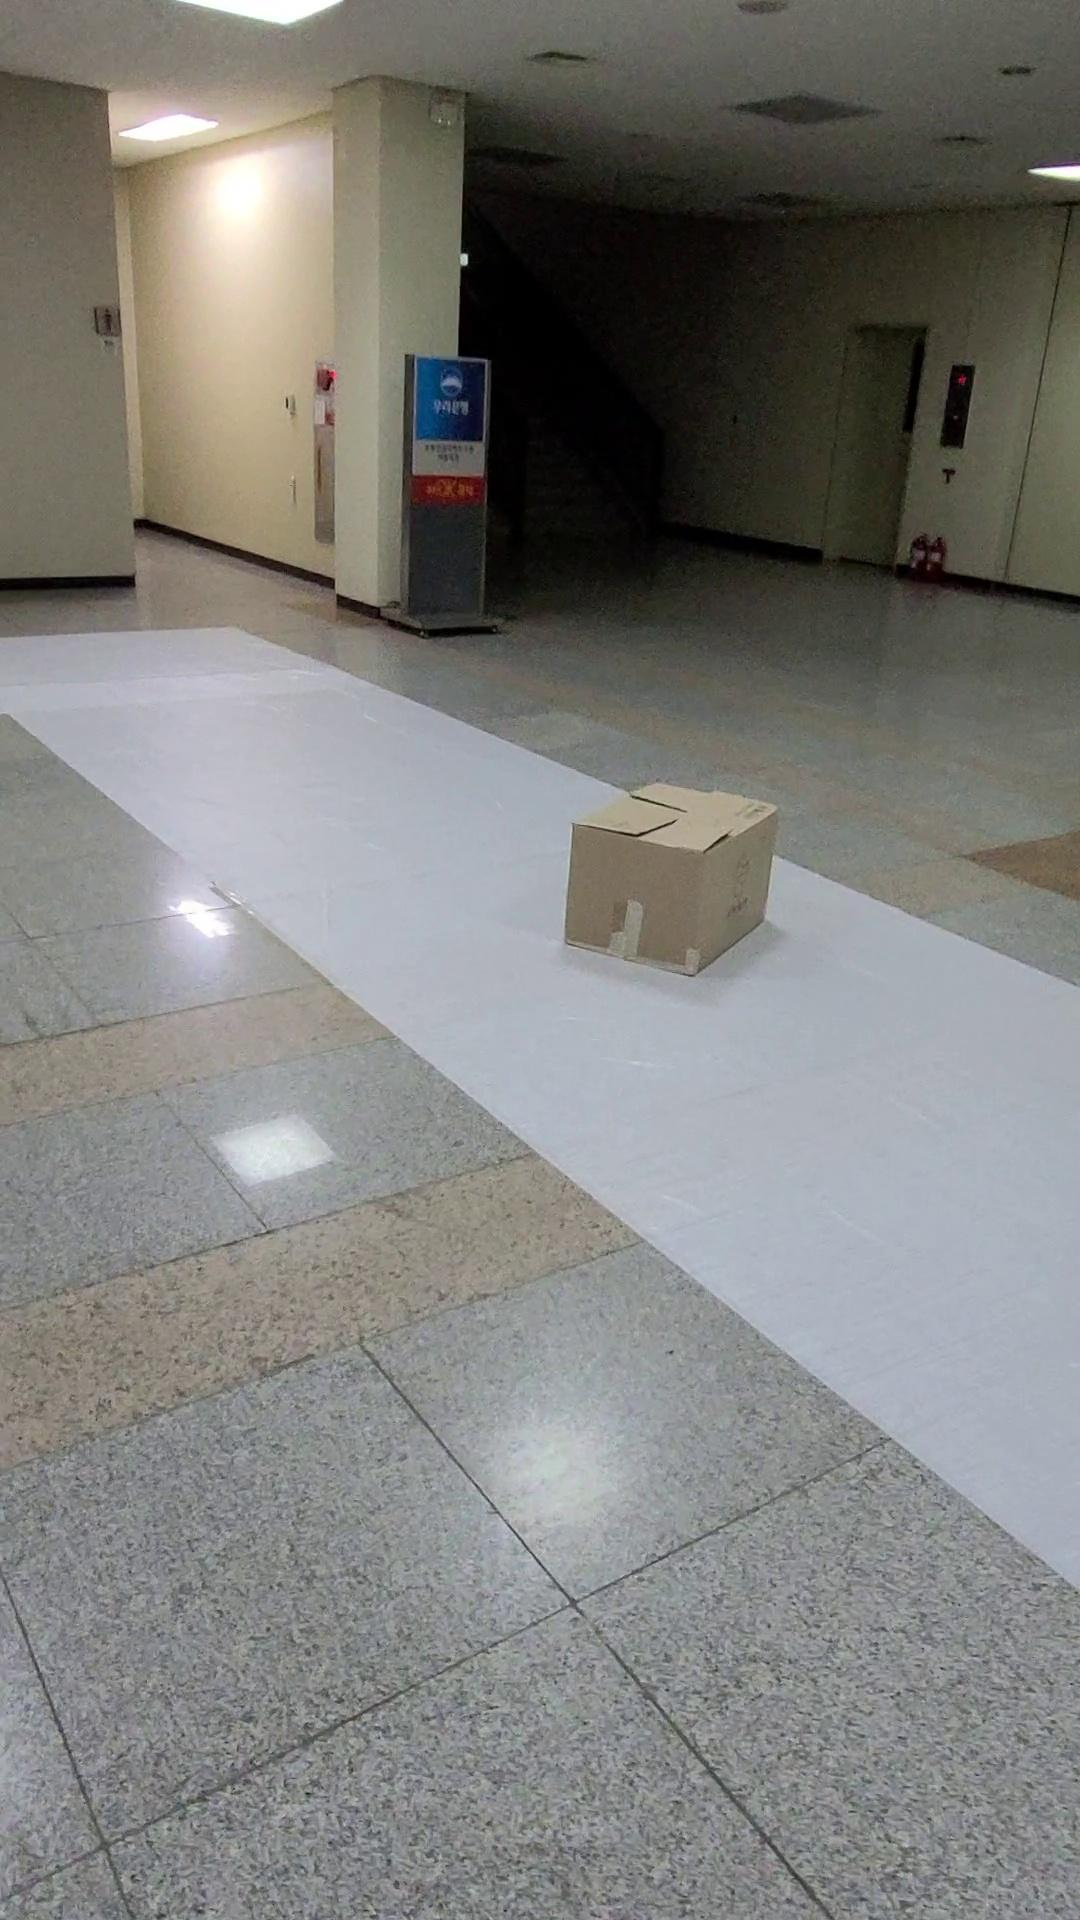Box: (487, 748, 847, 1018)
